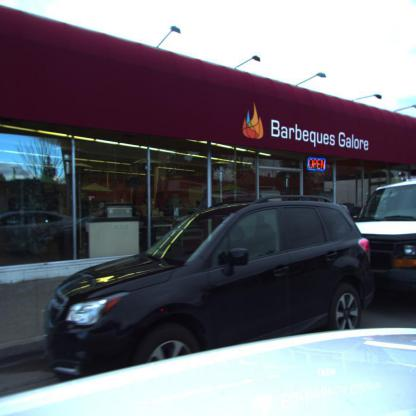car: (18, 192, 406, 381), (354, 176, 416, 302), (0, 209, 75, 258)
